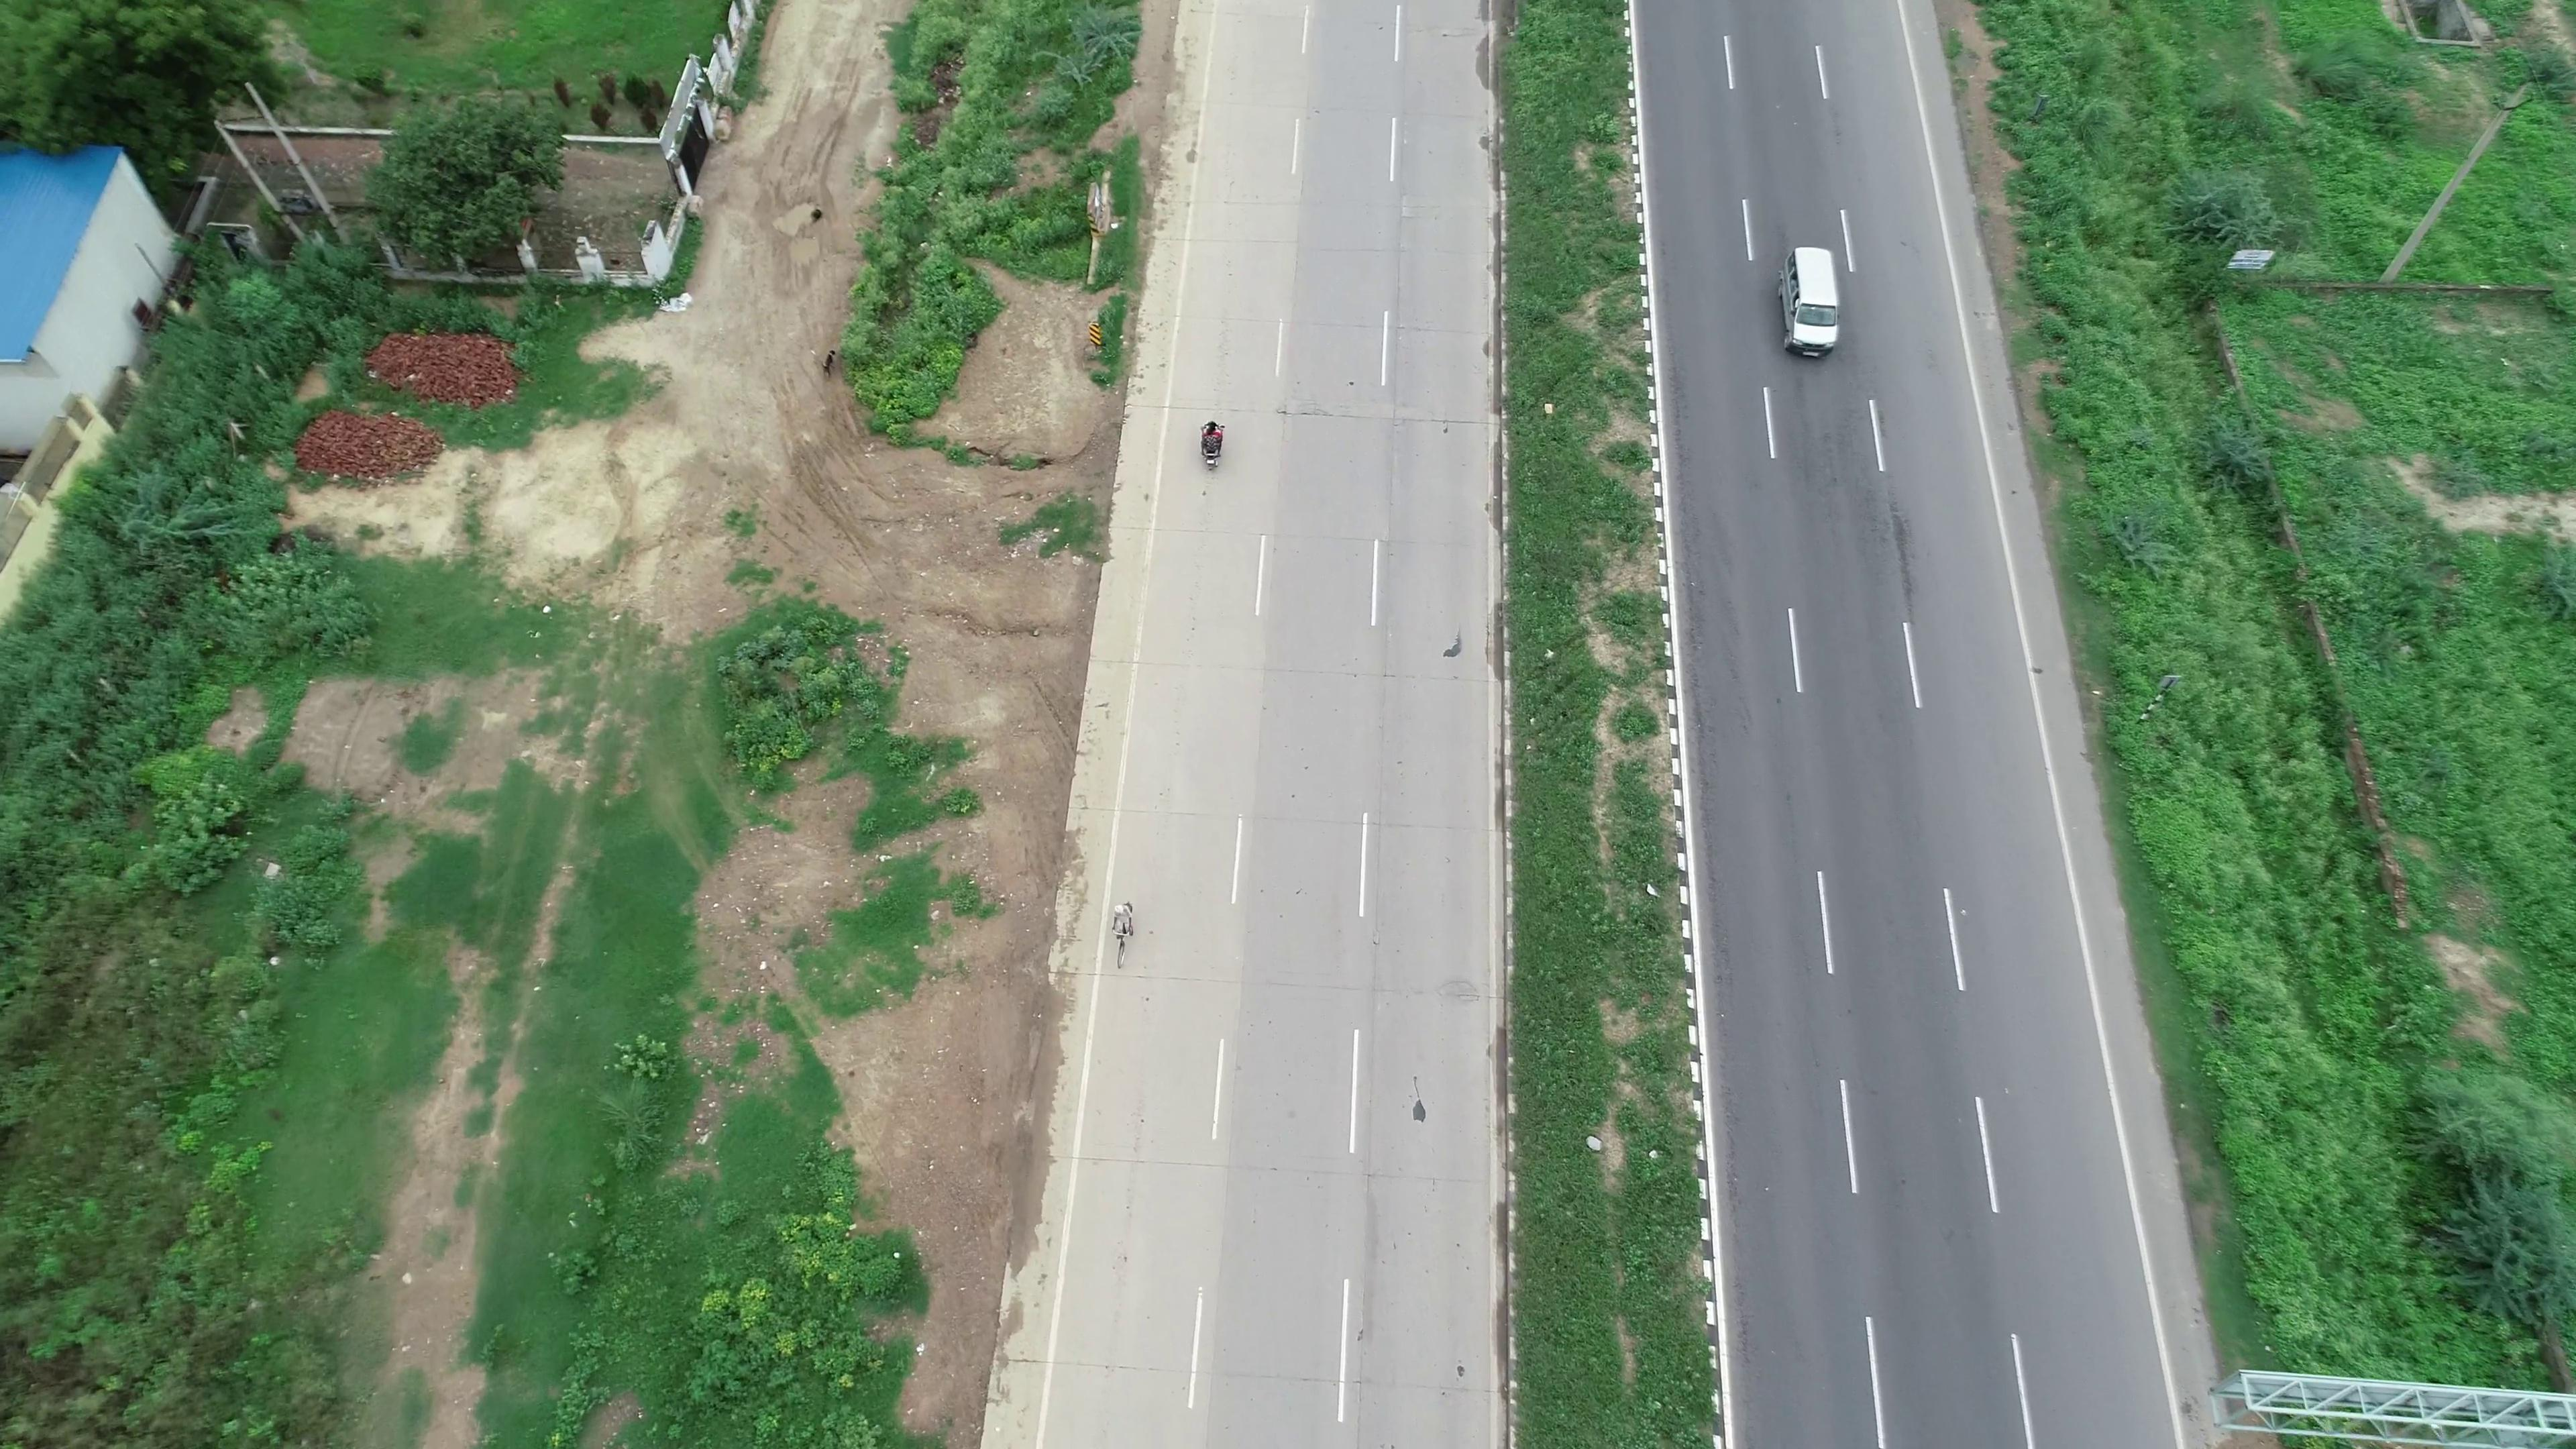Ravelling: (1844, 453, 1932, 623)
